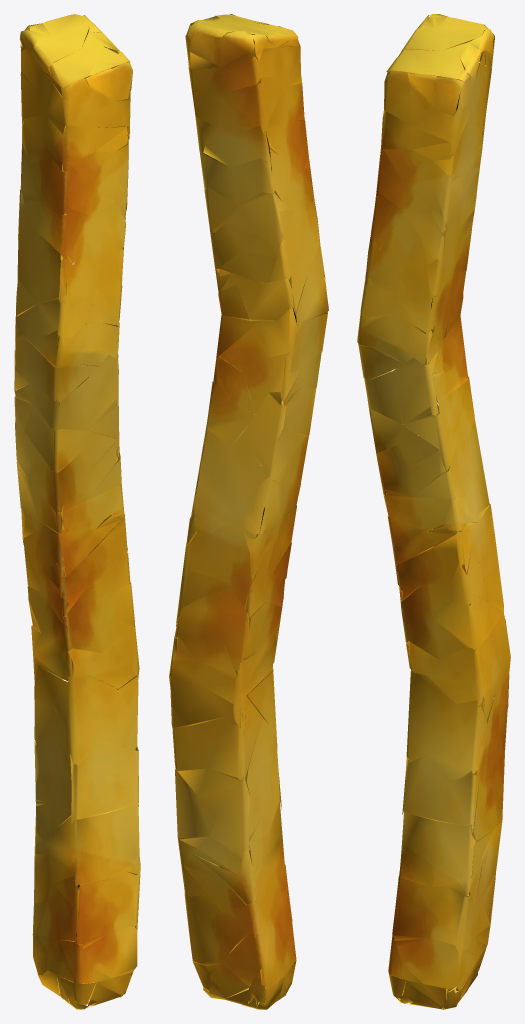
Rendered from fry.glb.
3 renders of one model, left to right at view 1: azimuth 30°, elevation 25°; view 2: azimuth 150°, elevation 25°; view 3: azimuth 330°, elevation 25°, orthographic. The views are drawn at different scales.
Parts seen in each view (by area): view 1: FRY_GAME; view 2: FRY_GAME; view 3: FRY_GAME.
Boxes of the visible parts, bbox=[...] form: FRY_GAME: bbox=[14, 14, 140, 1009]; FRY_GAME: bbox=[169, 14, 328, 1009]; FRY_GAME: bbox=[357, 14, 510, 1009].
Bounding box in the file's own units: 0.0482 × 0.3999 × 0.0453.
Materials: 1 (1 with a texture image).
